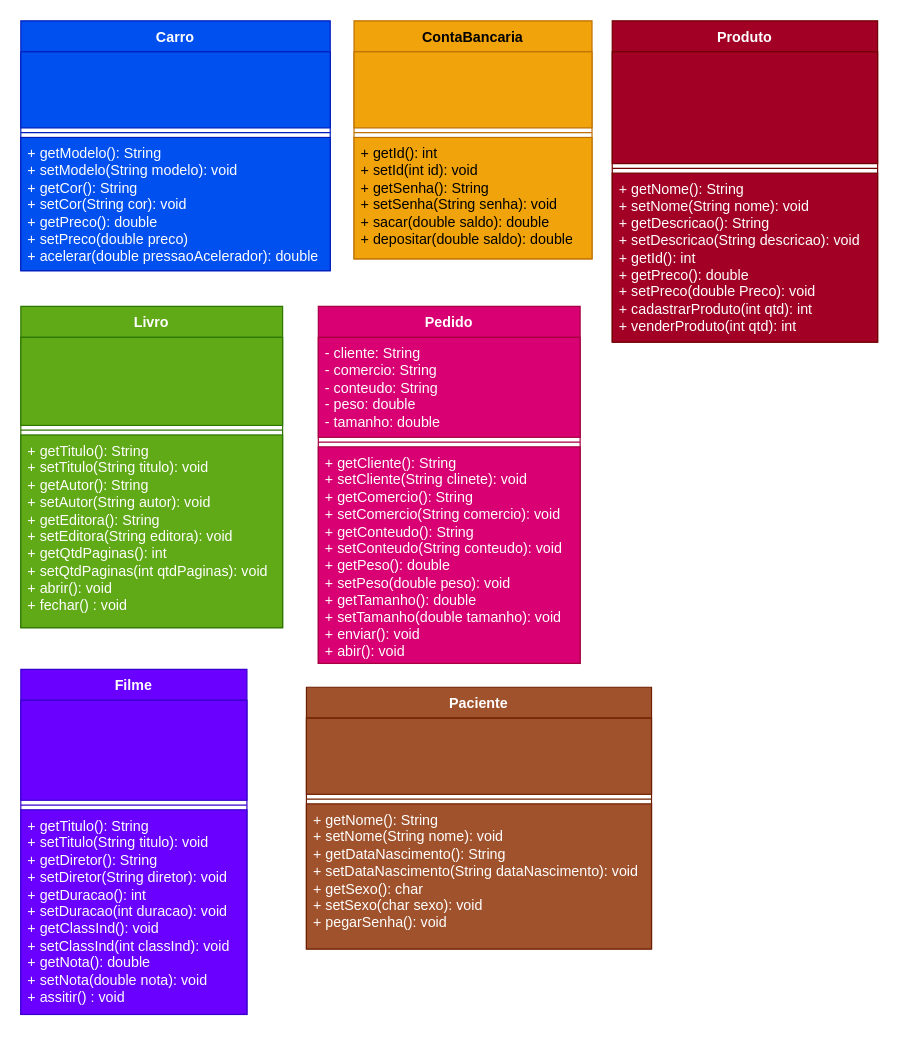
Image size: 898x1039. Some labels were removed from this diagram. Here are the shapes that lost their labels. From the top down, the centre of each, then its label:
At point 175,89: "- modelo: String - cor: String - preco: double".
At point 472,89: "- id: int - senha: int - saldo: double".
At point 744,107: "- nome: String - descricao: String - id: int - qtd: int - preco: double".
At point 151,380: "- titulo: String - autor: String - editora: String - qtdPaginas: int".
At point 133,749: "- titulo: String - diretor: String - duracao: int - classInd: int - nota: double".
At point 478,755: "- nome: String - dataNascimento: String - sexo: char".
